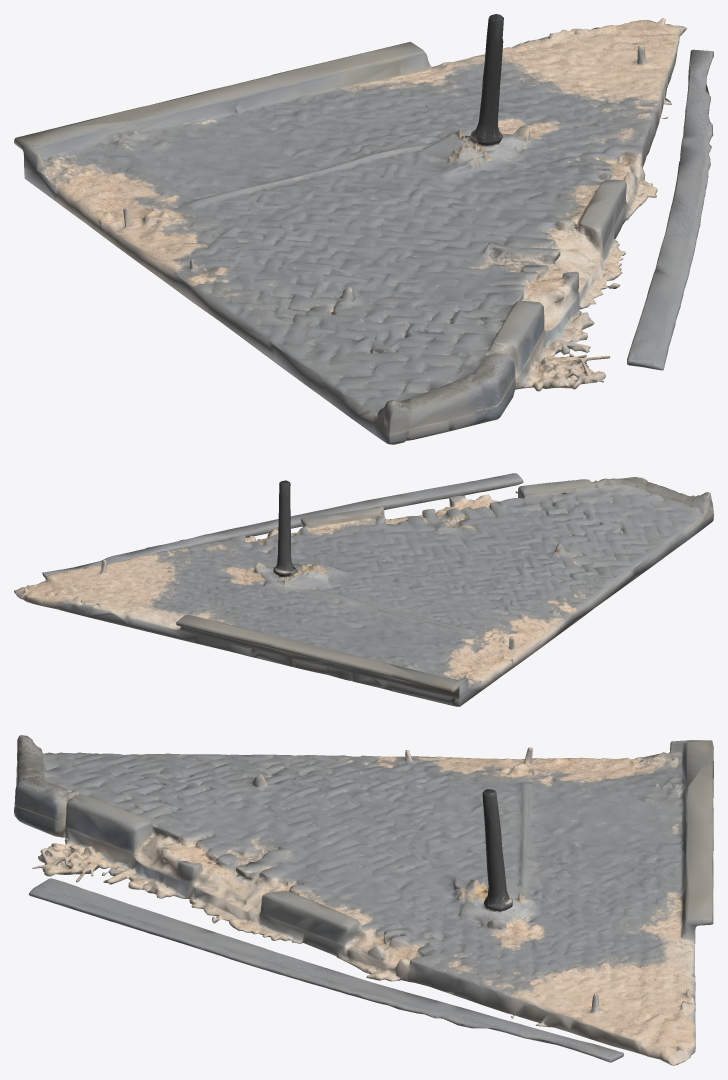
Rendered from collapsed_4.glb.
3 renders of one model, top to bottom at view 1: azimuth 30°, elevation 25°; view 2: azimuth 150°, elevation 25°; view 3: azimuth 270°, elevation 25°, orthographic. The views are drawn at different scales.
Parts seen in each view (by area): view 1: Mesh_0; view 2: Mesh_0; view 3: Mesh_0.
Part boxes in pixels (x1,y1,x2,y2): Mesh_0: (14,14,713,444); Mesh_0: (14,473,713,706); Mesh_0: (14,735,713,1065).
Bounding box in the file's own units: 1.91 × 0.4361 × 1.91.
Materials: 1 (1 with a texture image).
